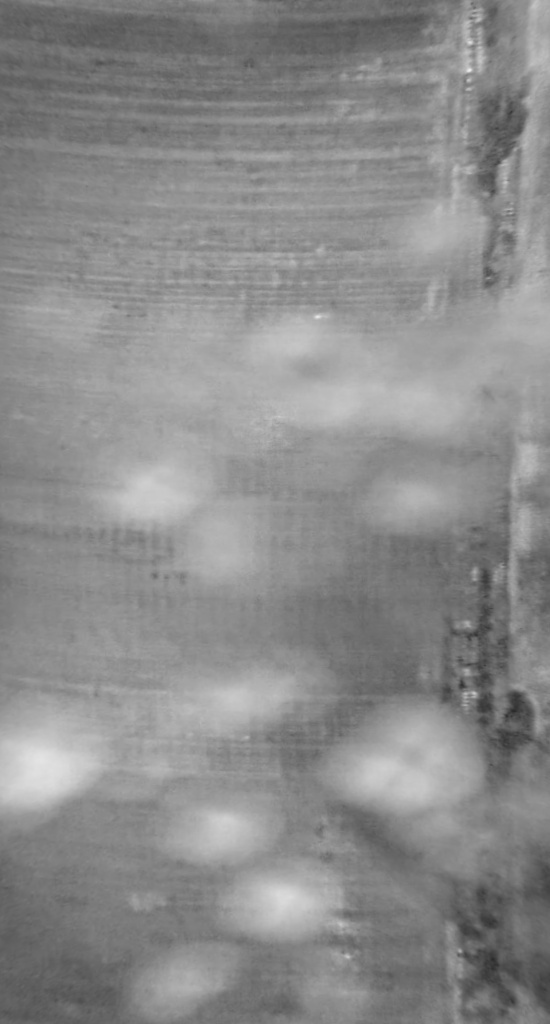splice: (440, 1, 537, 1022)
